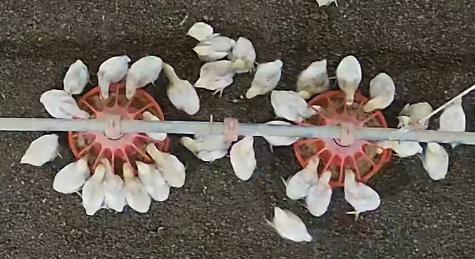chick: (344, 167, 381, 222), (162, 63, 199, 115), (267, 206, 314, 243), (270, 90, 323, 122), (146, 144, 186, 186), (283, 155, 320, 200), (182, 132, 234, 164), (39, 88, 90, 120), (126, 56, 163, 100), (135, 160, 171, 202), (122, 161, 151, 213), (193, 60, 236, 95), (80, 162, 107, 217), (246, 60, 284, 99), (304, 169, 334, 218), (19, 134, 64, 166), (98, 55, 130, 98), (52, 157, 91, 192), (229, 135, 258, 182), (101, 158, 126, 212), (334, 56, 362, 104), (440, 96, 466, 147), (296, 58, 330, 96), (260, 120, 300, 152), (364, 73, 395, 111), (63, 60, 94, 97), (192, 34, 231, 60), (424, 141, 450, 179), (230, 37, 256, 73), (399, 101, 432, 127), (383, 140, 424, 159), (142, 111, 167, 142), (186, 22, 213, 40)
rice: (67, 80, 170, 179), (292, 92, 392, 188)
